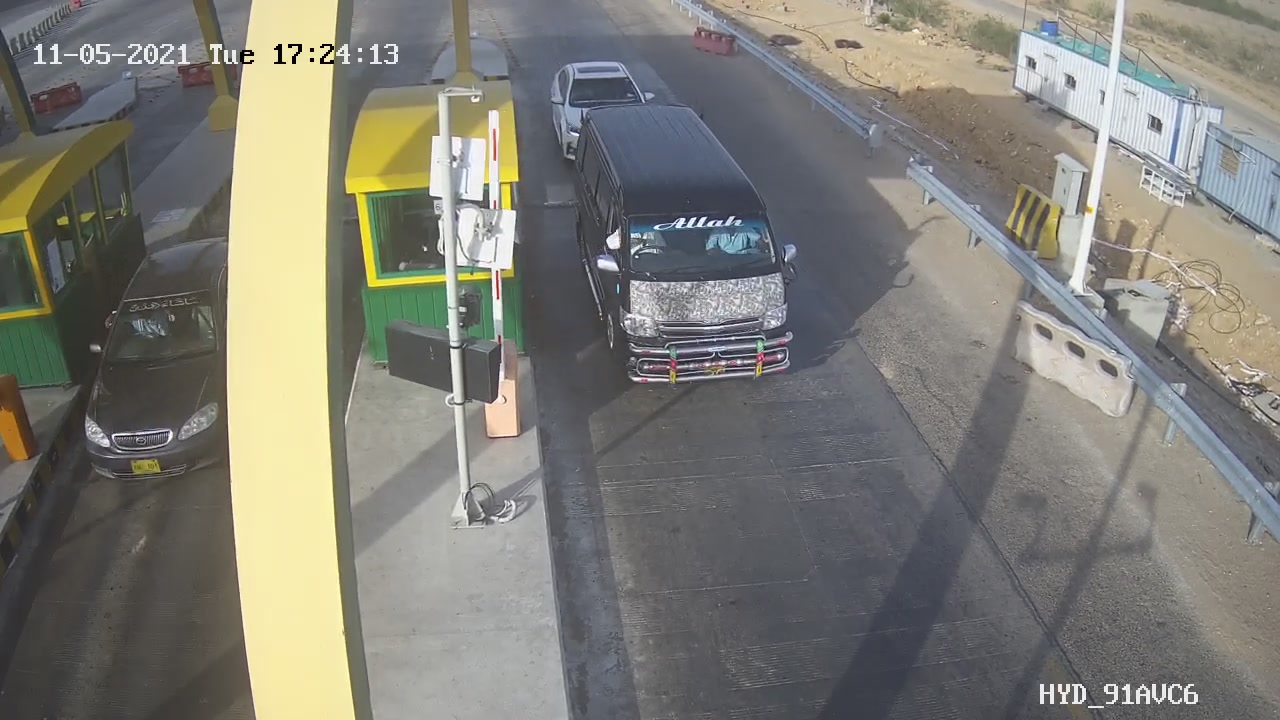F2: (550, 83, 829, 407)
